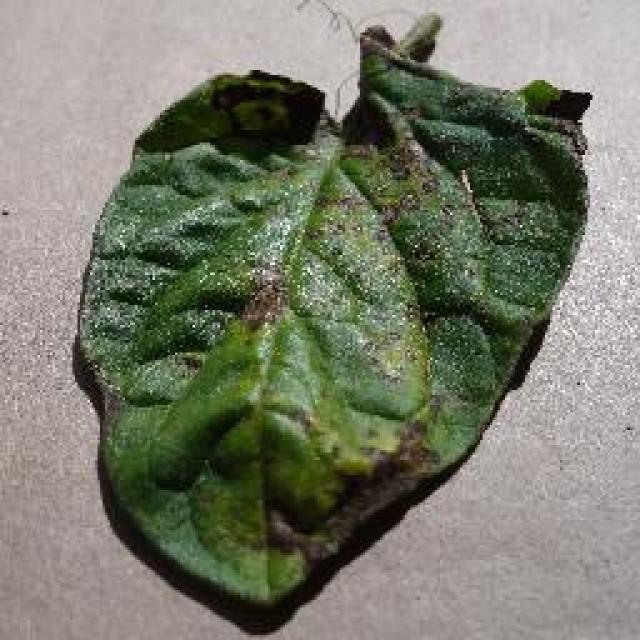Tomato___Early_blight: (74, 8, 596, 609)
